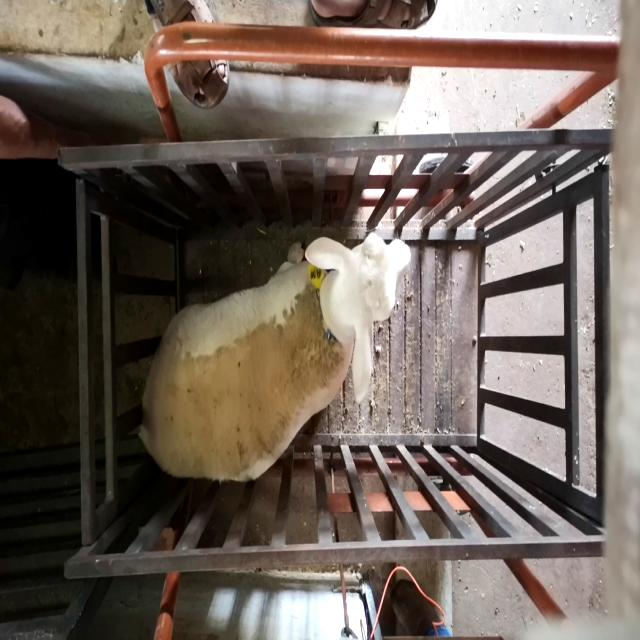sheep: (138, 231, 411, 482)
